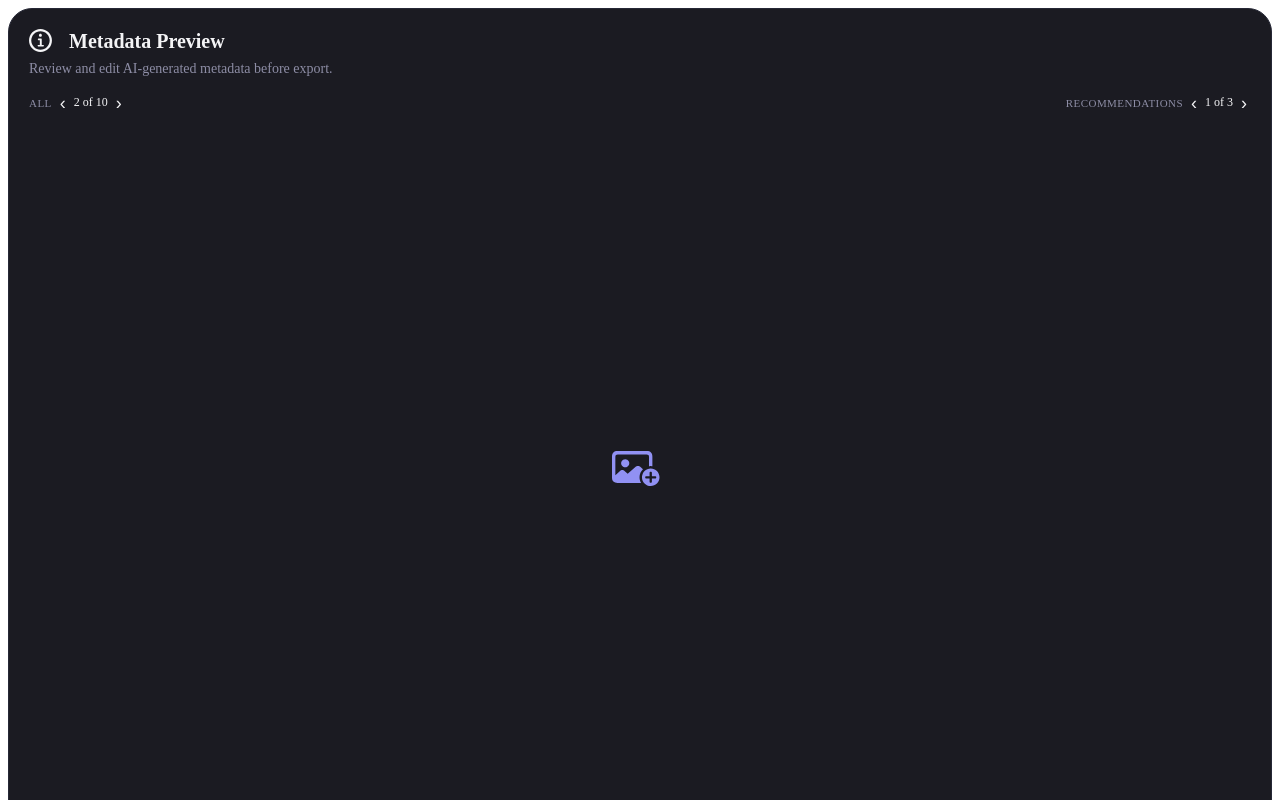
Test: групповой переход обновляет счётчик общего навигатора
Step 1. Click the button "›" in the row of "Recommendations" → (1244, 103), box [1237, 94, 1251, 112]
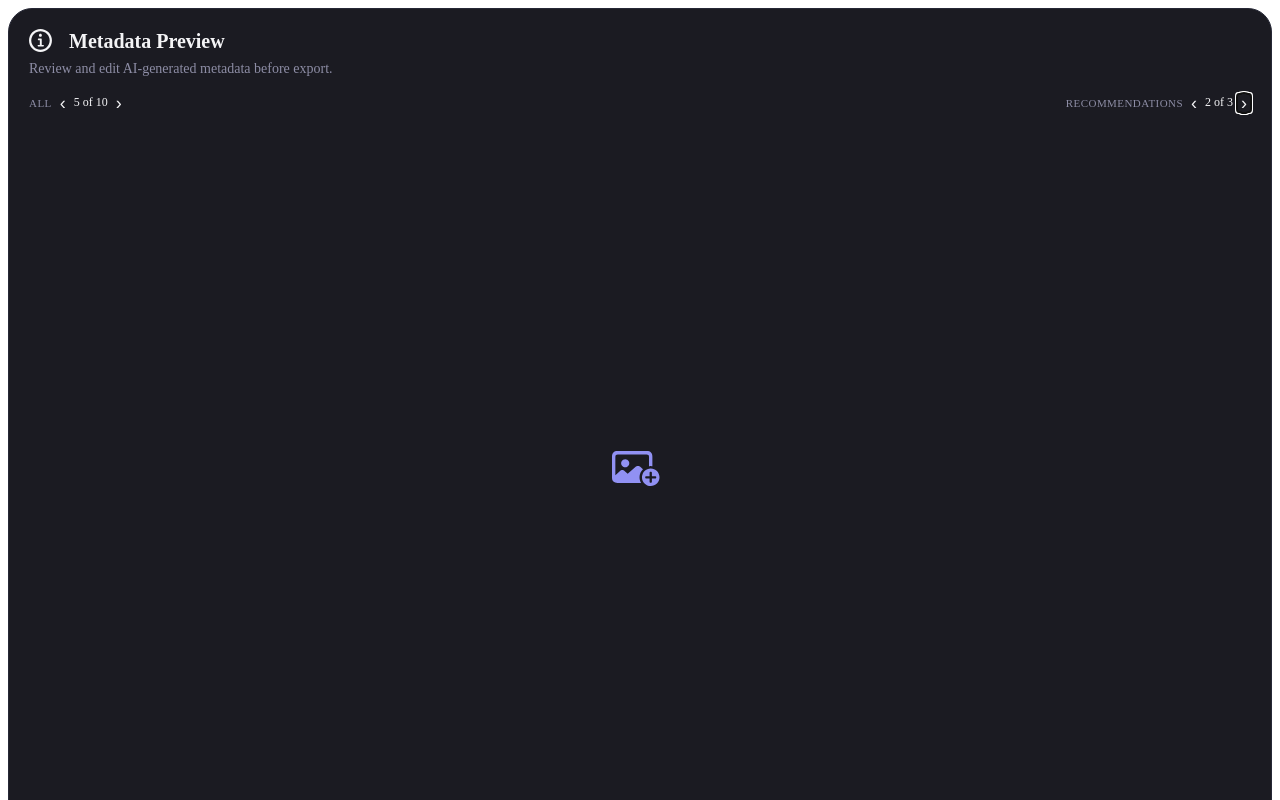
Check: the text "5 of 10" is shown, box [74, 95, 108, 110]
